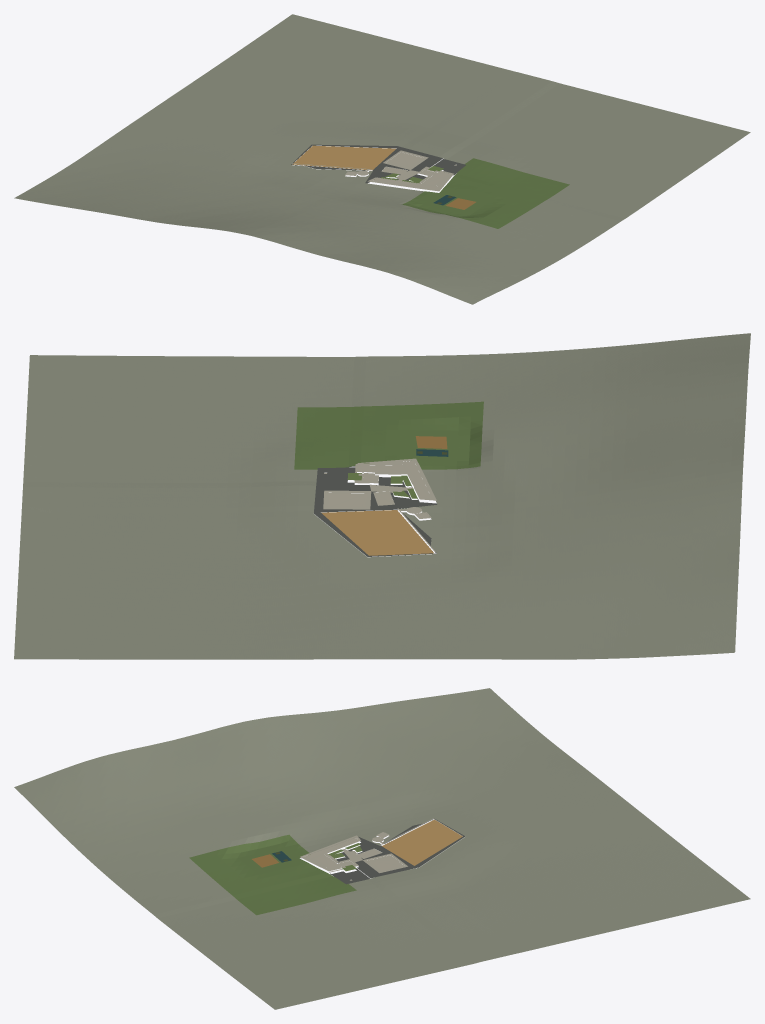
3 views of the same model, one above another, from view 1: azimuth 30°, elevation 25°; view 2: azimuth 150°, elevation 25°; view 3: azimuth 270°, elevation 25° (orthographic). The views are drawn at different scales.
Parts seen in each view (by area): view 1: ground_context-estimated, surface_field-earth, surface_school-lower-apron; view 2: ground_context-estimated, surface_field-earth, surface_school-lower-apron, surface_underbuilding-gym; view 3: ground_context-estimated, surface_field-earth, surface_school-lower-apron.
Boxes of the visible parts, box(x1,y1,x2,y2) form: ground_context-estimated: box(14, 14, 750, 304); surface_field-earth: box(292, 145, 395, 170); surface_school-lower-apron: box(291, 144, 456, 183); ground_context-estimated: box(14, 333, 750, 659); surface_field-earth: box(321, 510, 433, 555); surface_school-lower-apron: box(314, 466, 437, 556); surface_underbuilding-gym: box(328, 493, 366, 508); ground_context-estimated: box(14, 688, 750, 1009); surface_field-earth: box(382, 819, 462, 865); surface_school-lower-apron: box(301, 818, 465, 878).
Size of the model in its own units: 978 by 49.5 by 978.
9 materials, 9 textured.
